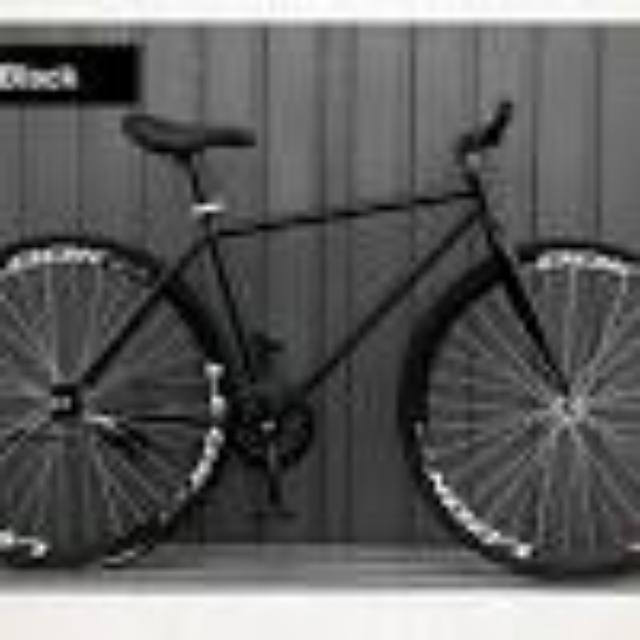obstacle: (0, 113, 640, 587)
